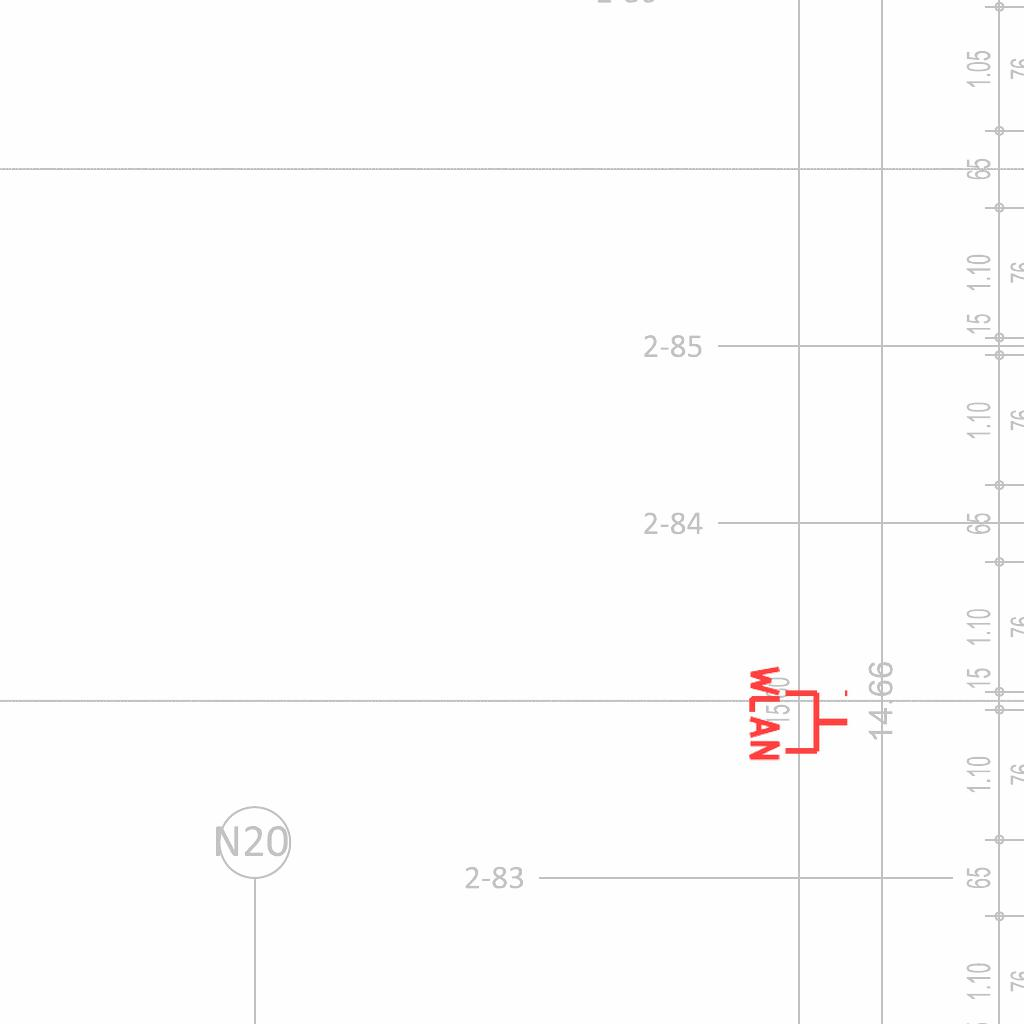WLAN: (747, 661, 852, 765)
